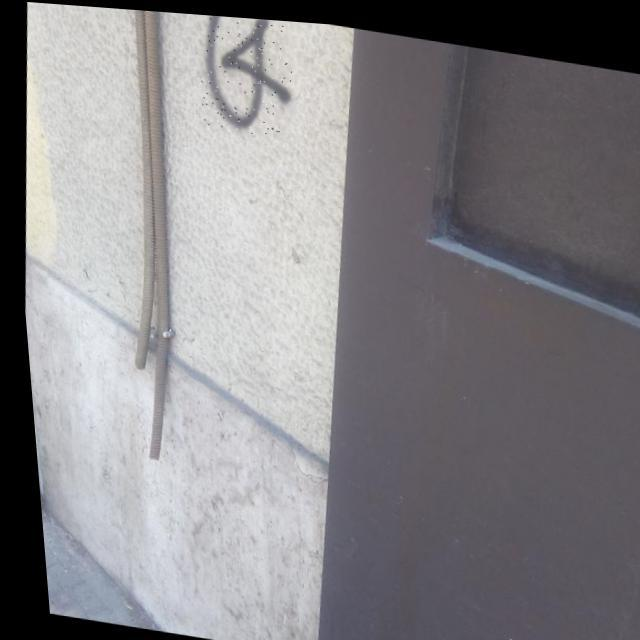-: (192, 11, 302, 137)
